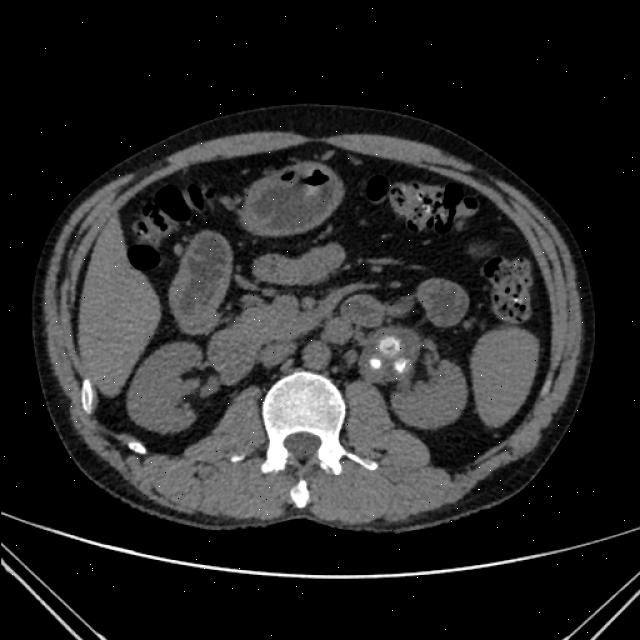kidneystone: (373, 336, 401, 371), (394, 360, 411, 374)
